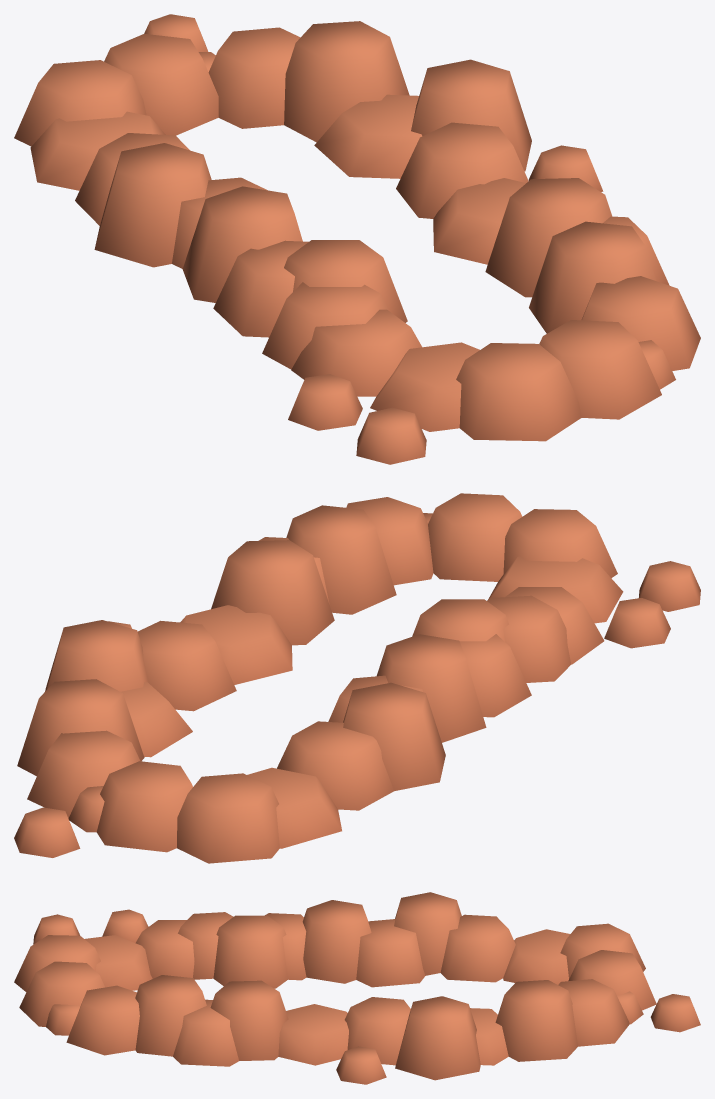
File: grave-border.glb
3 renders of one model, top to bottom at view 1: azimuth 30°, elevation 25°; view 2: azimuth 150°, elevation 25°; view 3: azimuth 270°, elevation 25°, orthographic. The views are drawn at different scales.
Parts seen in each view (by area): view 1: grave-border; view 2: grave-border; view 3: grave-border.
Boxes of the visible parts, x1,y1,x2,y2 form: grave-border: (14,14,700,464); grave-border: (14,493,700,863); grave-border: (14,892,700,1084).
Bounding box in the file's own units: 15.23 × 2.23 × 27.77.
1 material, 1 textured.
